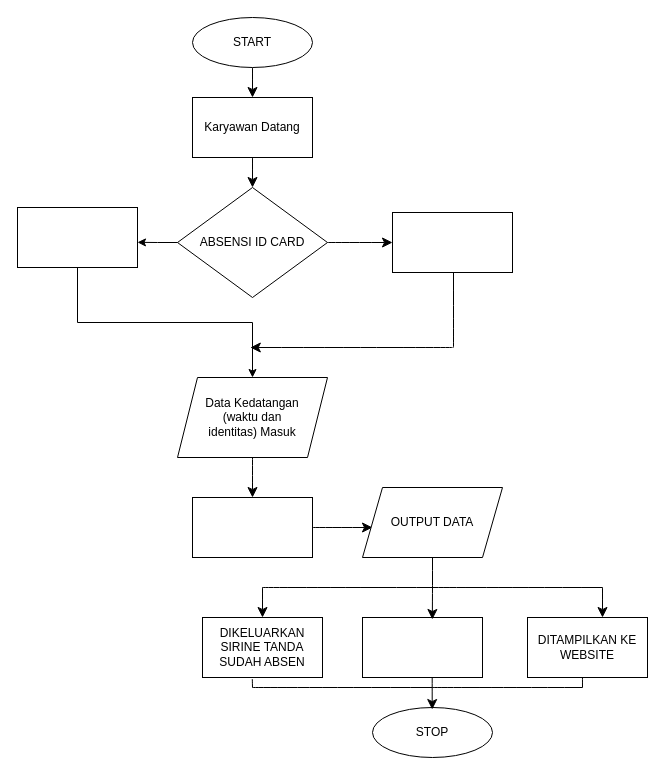
Image size: 665x775. Some labels were removed from this diagram. The centre of each missing label's shape, as x and y in pixels:
"Data Timestamp Masuk" goes at point 452,242.
"DIKELUARKAN LCD TANDA SUDAH ABSEN" goes at point 422,647.
"ESP CAM Mengambil data foto wajah" goes at point 77,237.
"SISTEM DATABASE MENGOLAH DATA" goes at point 252,527.
